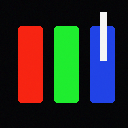4 line_v: (100, 12, 106, 60)
